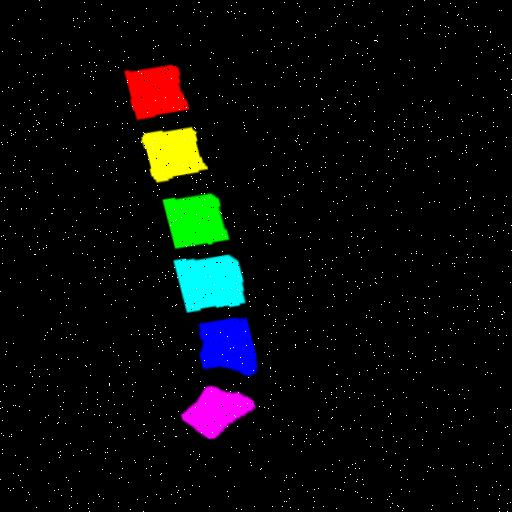L1: (124, 64, 187, 117)
L2: (140, 126, 206, 182)
L3: (160, 193, 226, 248)
L4: (171, 255, 241, 311)
L5: (195, 317, 253, 374)
S1: (175, 384, 250, 438)
